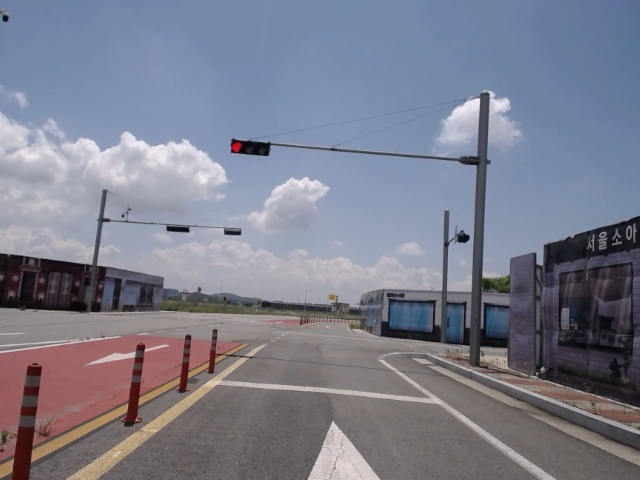red_3: (231, 141, 271, 155)
